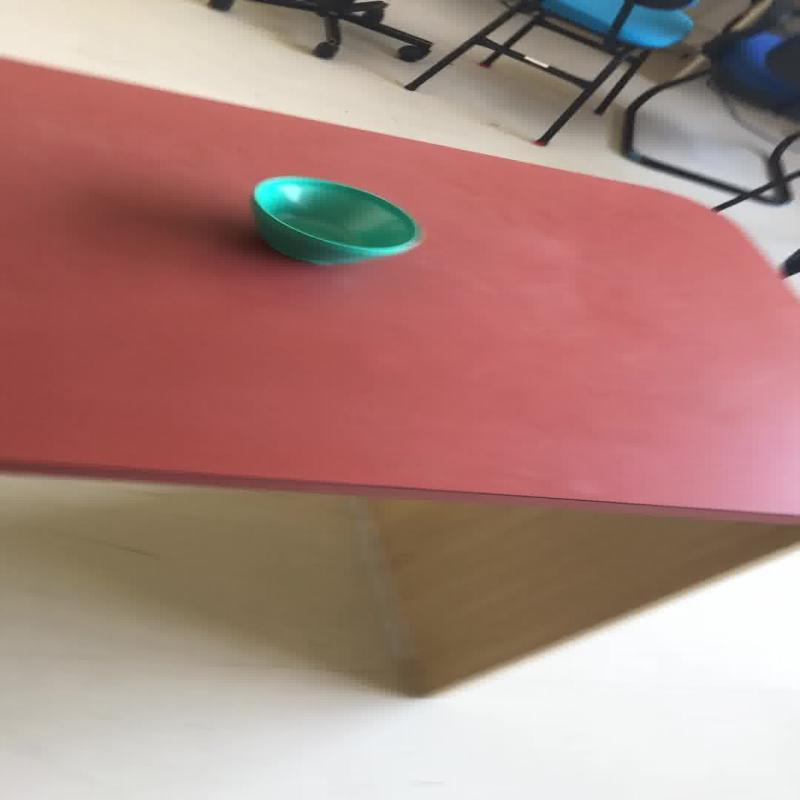bowl: (250, 174, 422, 265)
